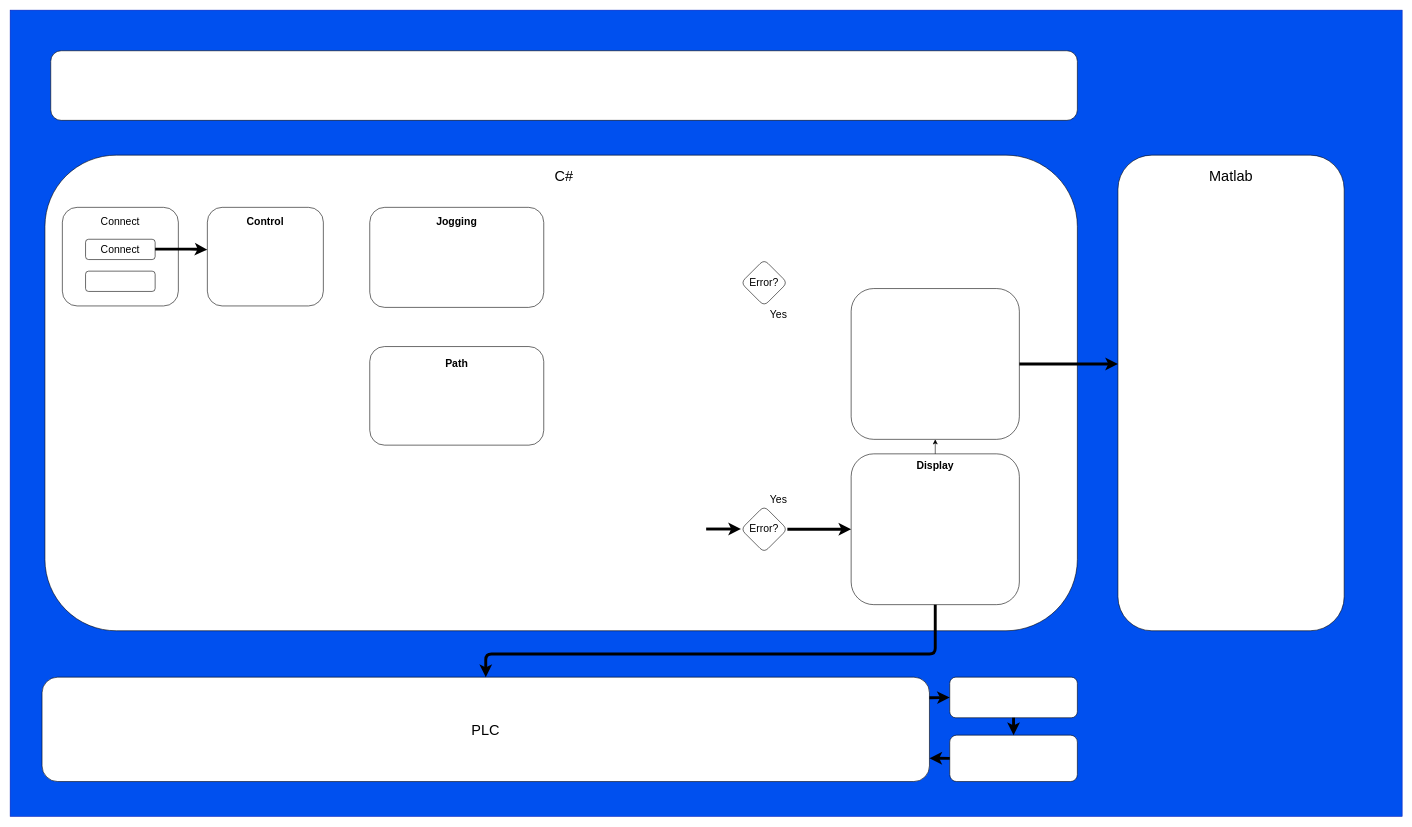
The diagram is 1412 pixels wide and 827 high, and some of its shapes have lost their labels. The box of each missing label's shape, as (x1, y1, x2, y2) in pixels:
Disconnect: (85, 271, 155, 291)
Driver: (949, 677, 1077, 718)
Encoder: (949, 735, 1077, 782)
Real-time Display: (851, 288, 1019, 439)
User: (50, 50, 1077, 120)
